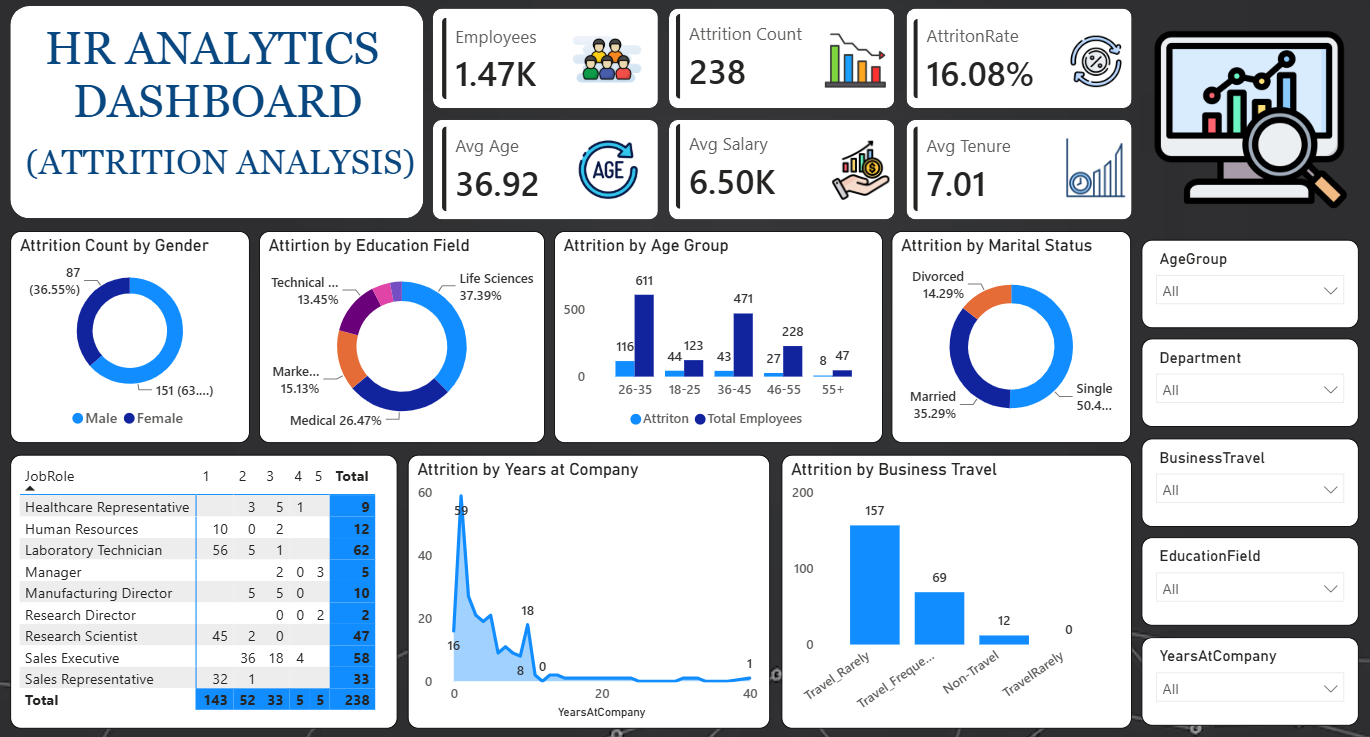

The dashboard page shown, as its layout file describes it:
{"tool":"powerbi","page":{"name":"HR Analytics","canvas":[1280,695],"ordinal":0},"visuals":[{"type":"shape","box":[10.9,9.7,384.9,197.9],"z":0},{"type":"textbox","box":[22.9,19.3,360.7,132.7],"z":1000},{"type":"textbox","box":[19.3,131.5,384.9,74.8],"z":2000},{"type":"shape","box":[404.2,12.1,209.9,92.9],"z":3000},{"type":"cardVisual","fields":{"Data":["Count(HR_Analytics.EmpID)"]},"box":[395.7,3.6,209.9,111],"z":4000},{"type":"image","box":[509.1,26.5,114.6,63.9],"z":5000},{"type":"shape","box":[623.7,12.1,209.9,92.9],"z":6000},{"type":"cardVisual","fields":{"Data":["Sum(HR_Analytics.Attrition 1)"]},"box":[614.1,0,170.1,113.4],"z":7000},{"type":"image","box":[768.5,35,57.9,50.7],"z":8000},{"type":"shape","box":[845.5,12.1,209.9,92.9],"z":9000},{"type":"cardVisual","fields":{"Data":["HR_Analytics.AttritonRate"]},"box":[834.6,4.9,170.1,108.6],"z":10000},{"type":"shape","box":[404.1,114.8,209.9,92.9],"z":11000},{"type":"shape","box":[623.7,114.8,209.9,92.9],"z":12000},{"type":"shape","box":[845.4,114.8,209.9,92.9],"z":13000},{"type":"cardVisual","fields":{"Data":["Avg(HR_Analytics.Age)"]},"box":[395.7,105,209.9,113.4],"z":14000},{"type":"image","box":[524.8,124.3,84.5,74.8],"z":15000},{"type":"cardVisual","fields":{"Data":["Avg(HR_Analytics.MonthlyIncome)"]},"box":[614.1,102.5,209.9,113.4],"z":16000},{"type":"image","box":[772.1,133.9,61.5,56.7],"z":17000},{"type":"cardVisual","fields":{"Data":["Avg(HR_Analytics.YearsAtCompany)"]},"box":[834.9,105,209.9,113.4],"z":18000},{"type":"image","box":[990.5,131.5,61.5,56.7],"z":19000},{"type":"image","box":[997.7,36.2,48.3,49.5],"z":20000},{"type":"donutChart","title":"Attrition Count by Gender","fields":{"Y":["Sum(HR_Analytics.Attrition 1)"],"Category":["HR_Analytics.Gender"]},"box":[10.9,218.4,223.2,197.9],"z":21000},{"type":"donutChart","title":"Attirtion by Education Field","fields":{"Category":["HR_Analytics.EducationField"],"Y":["Sum(HR_Analytics.Attrition 1)"]},"box":[242.5,218.4,266.6,197.9],"z":22000},{"type":"clusteredColumnChart","title":"Attrition by Age Group","fields":{"Category":["HR_Analytics.AgeGroup"],"Y":["Sum(HR_Analytics.Attrition 1)","Sum(HR_Analytics.EmployeeCount)"]},"box":[517.6,218.4,306.4,197.9],"z":23000},{"type":"pivotTable","fields":{"Rows":["HR_Analytics.JobRole"],"Columns":["HR_Analytics.JobLevel"],"Values":["Sum(HR_Analytics.Attrition 1)"]},"box":[10.5,427.4,361,255],"z":24000},{"type":"areaChart","title":"Attrition by Years at Company","fields":{"Category":["HR_Analytics.YearsAtCompany"],"Y":["Sum(HR_Analytics.Attrition 1)"]},"box":[380.8,427.4,337.7,255],"z":25000},{"type":"donutChart","title":"Attrition by Marital Status","fields":{"Y":["Sum(HR_Analytics.Attrition 1)"],"Category":["HR_Analytics.MaritalStatus"]},"box":[831.5,218.9,223.6,198],"z":26000},{"type":"clusteredColumnChart","title":"Attrition by Business Travel","fields":{"Y":["Sum(HR_Analytics.Attrition 1)"],"Category":["HR_Analytics.BusinessTravel"]},"box":[729,427.4,326.1,255],"z":27000},{"type":"slicer","fields":{"Values":["HR_Analytics.AgeGroup"]},"box":[1064.4,227.1,202.6,82.7],"z":28000},{"type":"slicer","fields":{"Values":["HR_Analytics.Department"]},"box":[1064.4,319.1,202.6,82.7],"z":29000},{"type":"slicer","fields":{"Values":["HR_Analytics.BusinessTravel"]},"box":[1064.4,412.3,202.6,82.7],"z":30000},{"type":"slicer","fields":{"Values":["HR_Analytics.EducationField"]},"box":[1064.4,504.3,202.6,82.7],"z":31000},{"type":"slicer","fields":{"Values":["HR_Analytics.YearsAtCompany"]},"box":[1064.4,597.4,202.6,82.7],"z":32000},{"type":"image","box":[1073.7,11.6,185.2,207.3],"z":33000}]}

Visuals, with their boxes in screenshot pixels (x1, y1, x2, y2), scaled from the page's 1280x695 canvas onto the 1370x737 screenshot:
shape: Rect(12, 10, 424, 220)
textbox: Rect(25, 20, 411, 161)
textbox: Rect(21, 139, 433, 219)
shape: Rect(433, 13, 657, 111)
cardVisual - Count(HR_Analytics.EmpID): Rect(424, 4, 648, 122)
image: Rect(545, 28, 668, 96)
shape: Rect(668, 13, 892, 111)
cardVisual - Sum(HR_Analytics.Attrition 1): Rect(657, 0, 839, 120)
image: Rect(823, 37, 885, 91)
shape: Rect(905, 13, 1130, 111)
cardVisual - HR_Analytics.AttritonRate: Rect(893, 5, 1075, 120)
shape: Rect(433, 122, 657, 220)
shape: Rect(668, 122, 892, 220)
shape: Rect(905, 122, 1130, 220)
cardVisual - Avg(HR_Analytics.Age): Rect(424, 111, 648, 232)
image: Rect(562, 132, 652, 211)
cardVisual - Avg(HR_Analytics.MonthlyIncome): Rect(657, 109, 882, 229)
image: Rect(826, 142, 892, 202)
cardVisual - Avg(HR_Analytics.YearsAtCompany): Rect(894, 111, 1118, 232)
image: Rect(1060, 139, 1126, 200)
image: Rect(1068, 38, 1120, 91)
"Attrition Count by Gender" donutChart: Rect(12, 232, 251, 441)
"Attirtion by Education Field" donutChart: Rect(260, 232, 545, 441)
"Attrition by Age Group" clusteredColumnChart: Rect(554, 232, 882, 441)
pivotTable - HR_Analytics.JobRole x HR_Analytics.JobLevel: Rect(11, 453, 398, 724)
"Attrition by Years at Company" areaChart: Rect(408, 453, 769, 724)
"Attrition by Marital Status" donutChart: Rect(890, 232, 1129, 442)
"Attrition by Business Travel" clusteredColumnChart: Rect(780, 453, 1129, 724)
slicer - HR_Analytics.AgeGroup: Rect(1139, 241, 1356, 329)
slicer - HR_Analytics.Department: Rect(1139, 338, 1356, 426)
slicer - HR_Analytics.BusinessTravel: Rect(1139, 437, 1356, 525)
slicer - HR_Analytics.EducationField: Rect(1139, 535, 1356, 622)
slicer - HR_Analytics.YearsAtCompany: Rect(1139, 634, 1356, 721)
image: Rect(1149, 12, 1347, 232)
